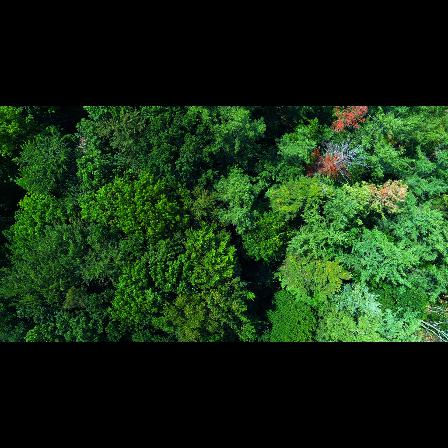Dead: (313, 138, 371, 187)
